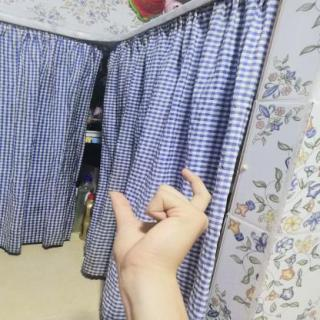NOON: (94, 157, 228, 293)
